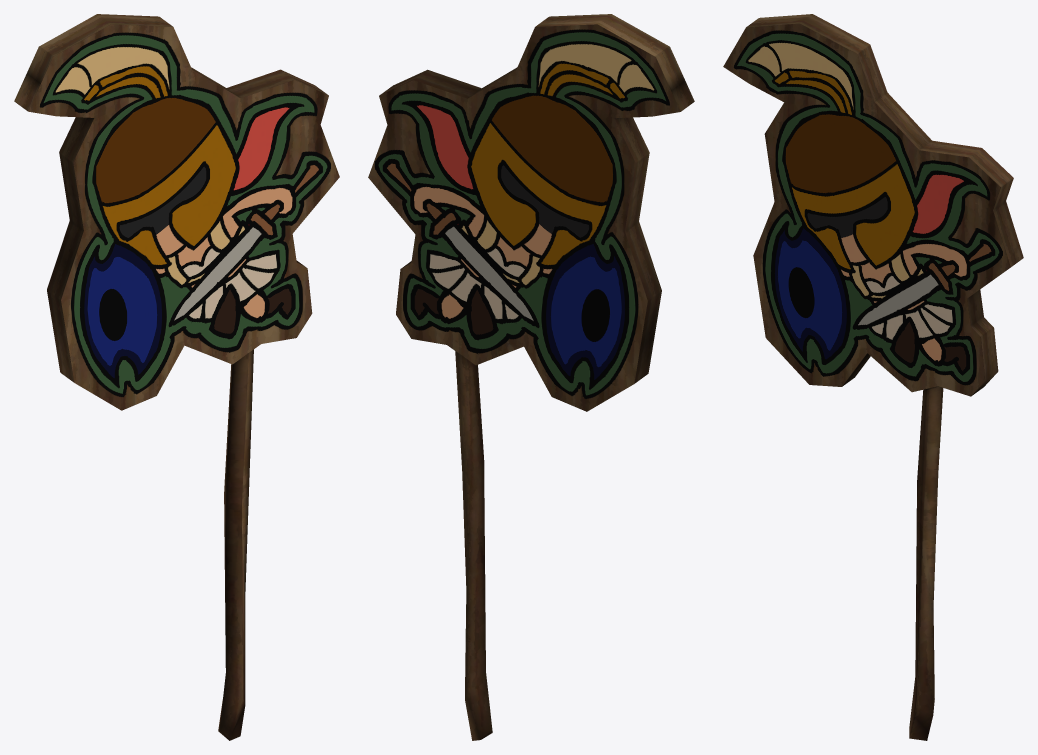
File: unit2_run_F.fbx
3 renders of one model, left to right at view 1: azimuth 30°, elevation 25°; view 2: azimuth 150°, elevation 25°; view 3: azimuth 330°, elevation 25°, orthographic. The views are drawn at different scales.
Visible parts, largest first — view 1: Mesh1; view 2: Mesh1; view 3: Mesh1.
Boxes of the visible parts, box(x1,y1,x2,y2) form: Mesh1: box(14, 14, 339, 740); Mesh1: box(368, 14, 694, 740); Mesh1: box(723, 14, 1023, 740).
Size of the model in its own units: 10.58 by 24.27 by 0.9677.
Materials: 1 (1 with a texture image).
